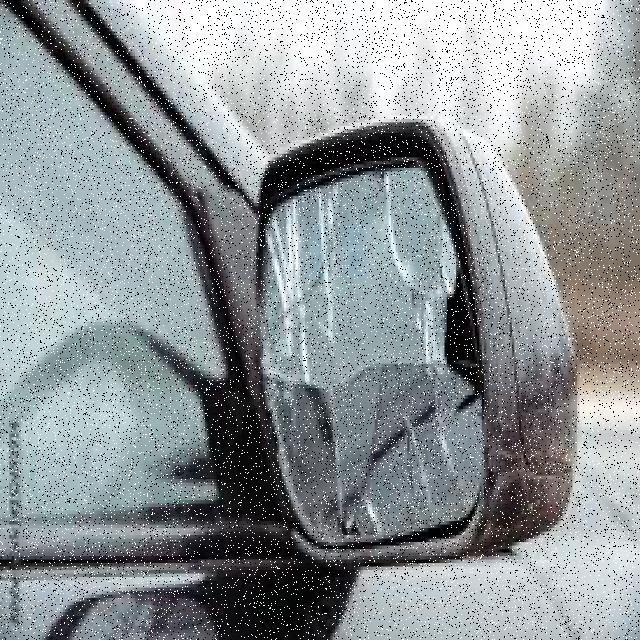Sidemirror-Damage: (235, 95, 614, 588)
